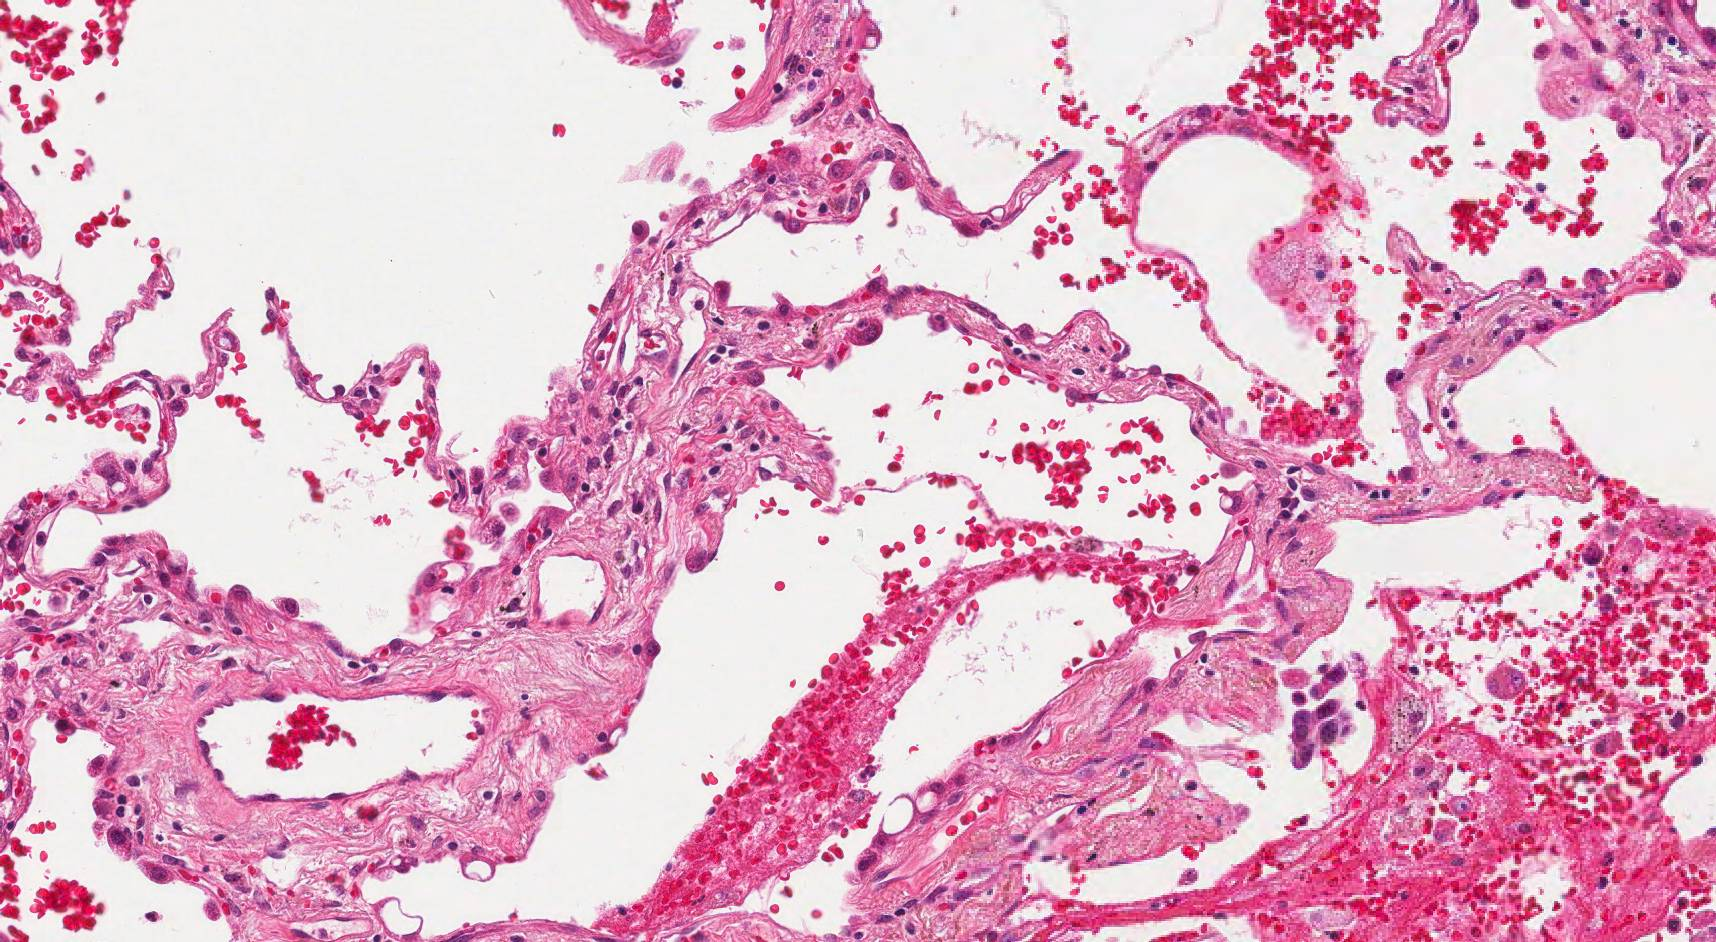stas: (1289, 662, 1357, 771)
